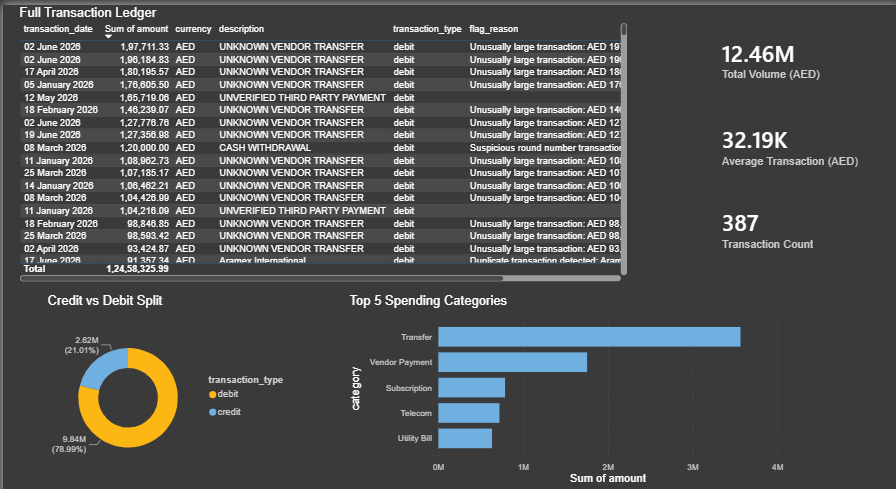

The page's visual inventory and layout, read from the dashboard file:
{"tool":"powerbi","page":{"name":"Transaction Explorer","canvas":[1280,720],"ordinal":2},"visuals":[{"type":"tableEx","title":"Full Transaction Ledger","fields":{"Values":["transactions.transaction_date","Sum(transactions.amount)","transactions.currency","transactions.description","transactions.transaction_type","transactions.flag_reason"]},"box":[18.8,0,878.3,400],"z":0},{"type":"donutChart","title":"Credit vs Debit Split","fields":{"Category":["transactions.transaction_type"],"Y":["Sum(transactions.amount)"]},"box":[58,411.6,352.2,278.3],"z":1},{"type":"clusteredBarChart","title":"Top 5 Spending Categories","fields":{"Category":["transactions.category"],"Y":["Sum(transactions.amount)"]},"box":[489.9,411.6,630.4,278.3],"z":2},{"type":"cardVisual","fields":{"Data":["Sum(transactions.amount)"]},"box":[997.1,0,218.8,153.6],"z":3},{"type":"cardVisual","fields":{"Data":["Avg(transactions.amount)"]},"box":[997.1,123.2,271,153.6],"z":4},{"type":"cardVisual","fields":{"Data":["CountNonNull(transactions.transaction_type)"]},"box":[997.1,237.7,249.3,162.3],"z":5}]}

Visuals, with their boxes on the page's 1280x720 design canvas (x1, y1, x2, y2). These are canvas units, not pixel positions in the 896x489 screenshot, which may show the page scaled, cropped or inside an application window:
"Full Transaction Ledger" tableEx: [left=19, top=0, right=897, bottom=400]
"Credit vs Debit Split" donutChart: [left=58, top=412, right=410, bottom=690]
"Top 5 Spending Categories" clusteredBarChart: [left=490, top=412, right=1120, bottom=690]
cardVisual - Sum(transactions.amount): [left=997, top=0, right=1216, bottom=154]
cardVisual - Avg(transactions.amount): [left=997, top=123, right=1268, bottom=277]
cardVisual - CountNonNull(transactions.transaction_type): [left=997, top=238, right=1246, bottom=400]
